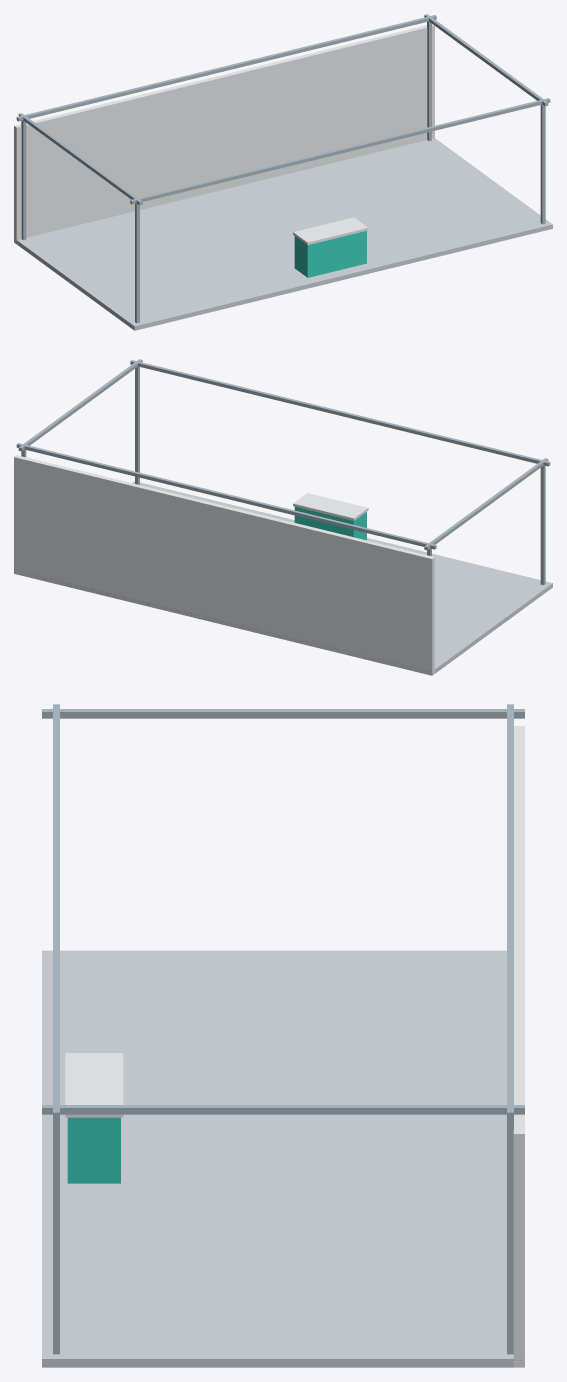
3 renders of one model, top to bottom at view 1: azimuth 30°, elevation 25°; view 2: azimuth 150°, elevation 25°; view 3: azimuth 270°, elevation 25°, orthographic. The views are drawn at different scales.
Visible parts, largest first — view 1: Exhibition Booth Concept; view 2: Exhibition Booth Concept; view 3: Exhibition Booth Concept.
Part boxes in pixels (<box>): Exhibition Booth Concept: <box>14,14,552,330</box>; Exhibition Booth Concept: <box>14,359,552,675</box>; Exhibition Booth Concept: <box>42,704,524,1367</box>.
Bounding box in the file's own units: 12 × 3.49 × 6.
